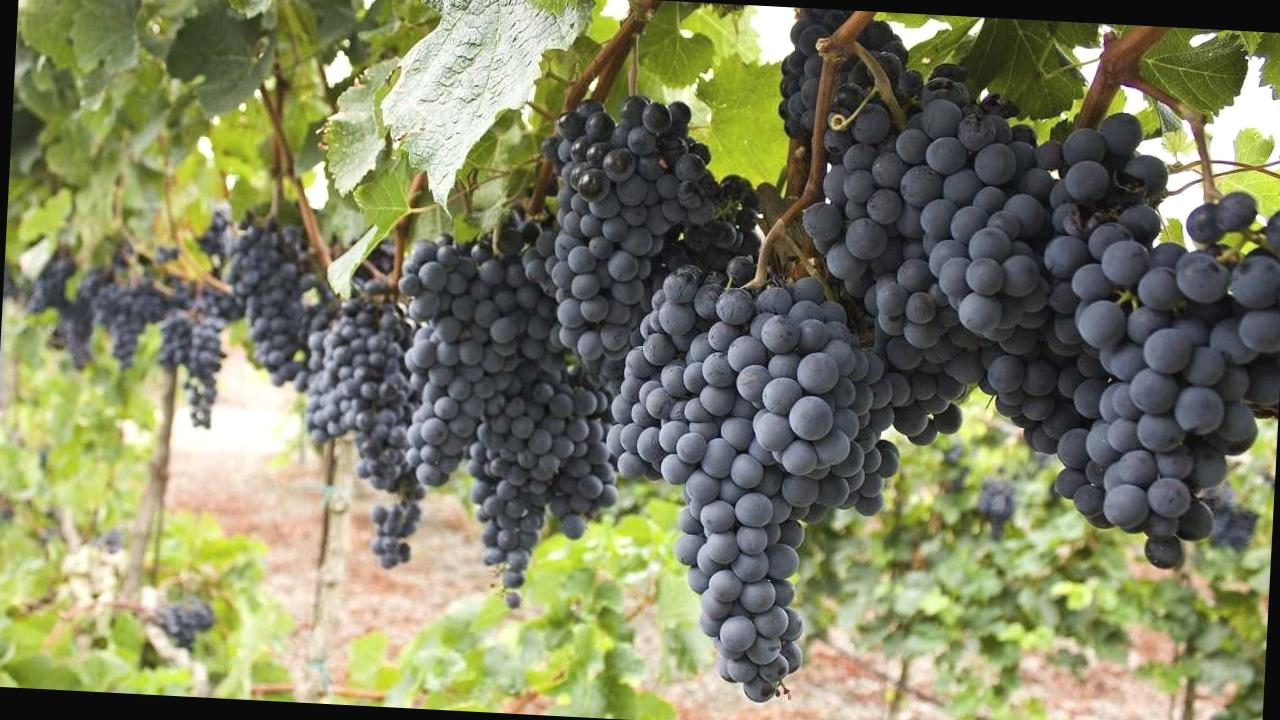Grape Ripe: (608, 259, 914, 716), (793, 57, 1036, 466), (953, 120, 1149, 461), (1088, 237, 1280, 580), (456, 194, 600, 618), (544, 70, 720, 392), (325, 280, 472, 567), (382, 198, 510, 485), (300, 274, 409, 474), (234, 215, 350, 381), (546, 382, 636, 560)
